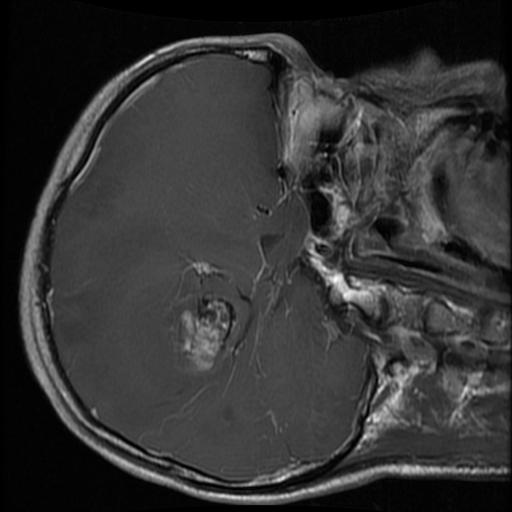glioma: (168, 289, 238, 378)
